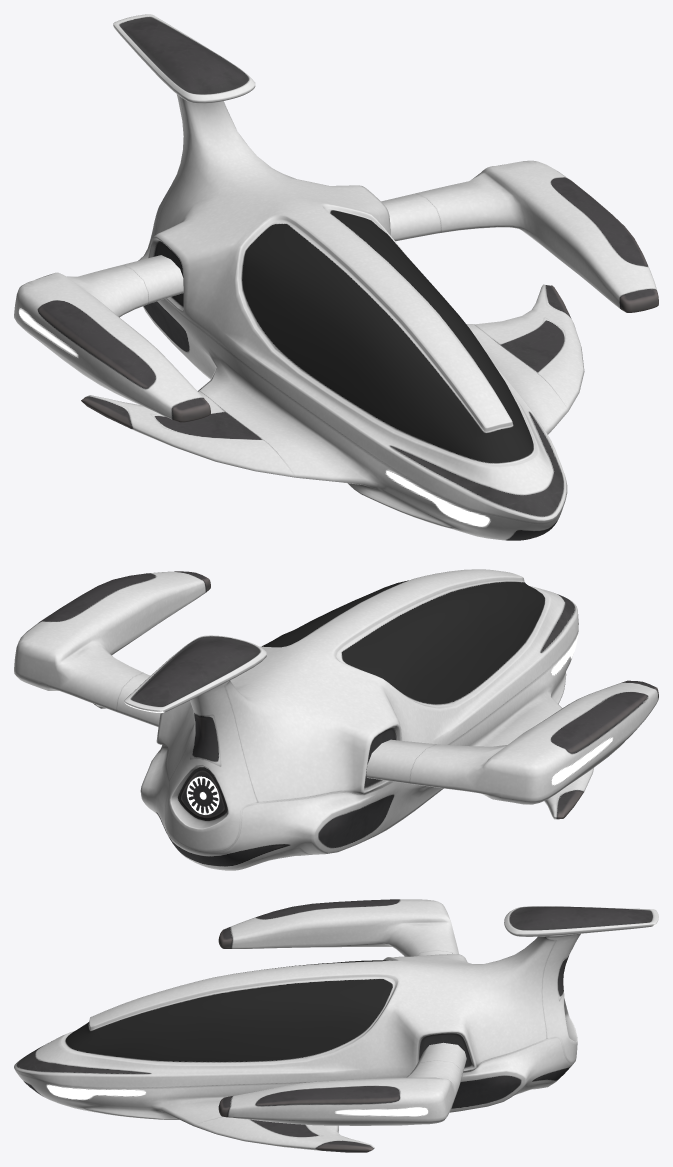
The model's file is SciFiDrone09.FBX.
The picture shows the model from 3 angles, top to bottom: view 1: azimuth 30°, elevation 25°; view 2: azimuth 150°, elevation 25°; view 3: azimuth 270°, elevation 25°; orthographic projection. The views are drawn at different scales.
Parts seen in each view (by area): view 1: SciFiDrone09; view 2: SciFiDrone09; view 3: SciFiDrone09.
Boxes of the visible parts, x1=… form: SciFiDrone09: x1=14, y1=14, x2=658, y2=540; SciFiDrone09: x1=14, y1=569, x2=658, y2=870; SciFiDrone09: x1=14, y1=899, x2=658, y2=1152.
Size of what is drawn, in the model's own units: 1.91 by 0.8746 by 2.58.
